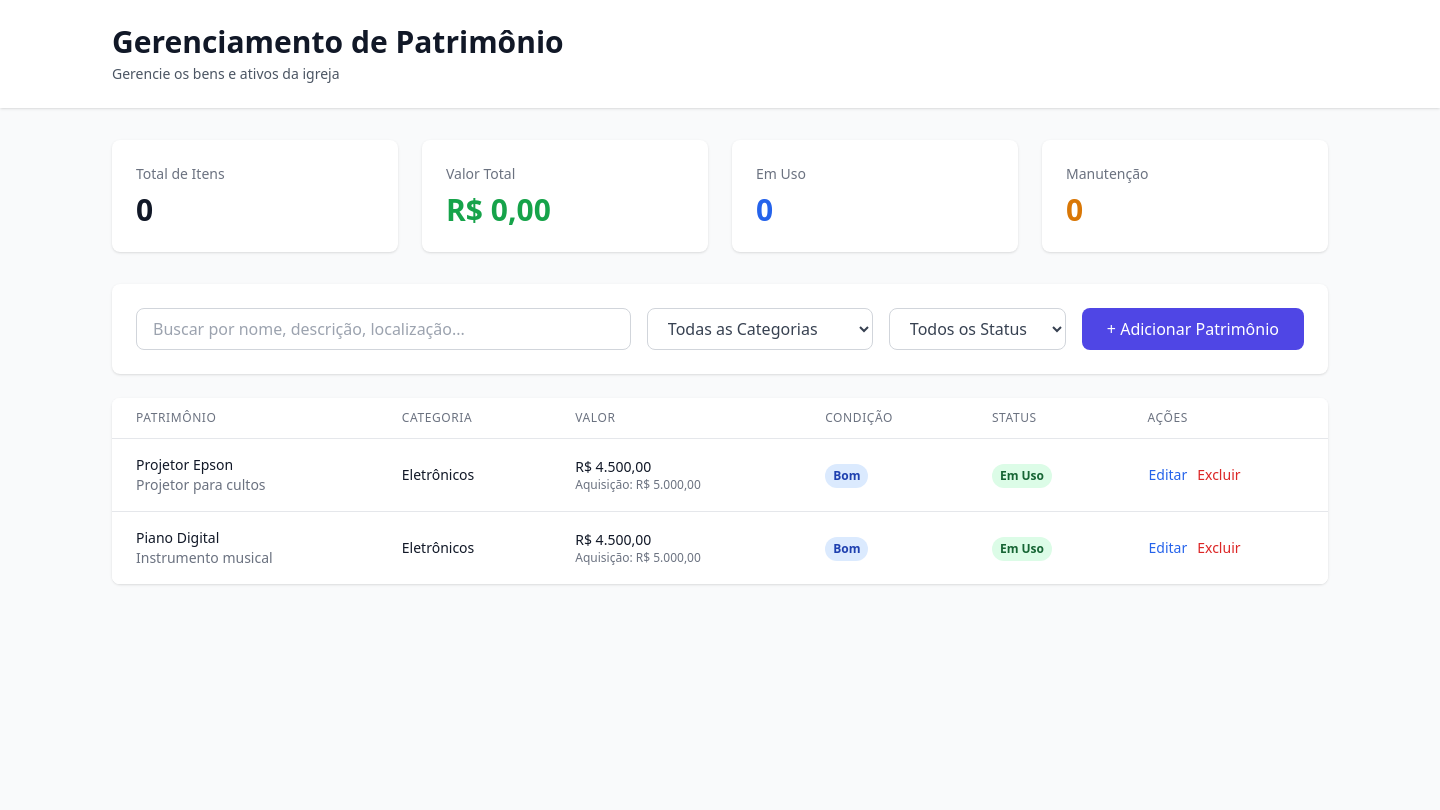
Test: AssetsManagementPage › Search and Filtering › should filter assets by search term (name)
Expected: the text "Projetor Epson" is shown, [136,455,233,474]
Type "Projetor" into the field with placeholder "Buscar por nome, descrição, localização...". click: (383, 329)
box: [136,308,631,350]
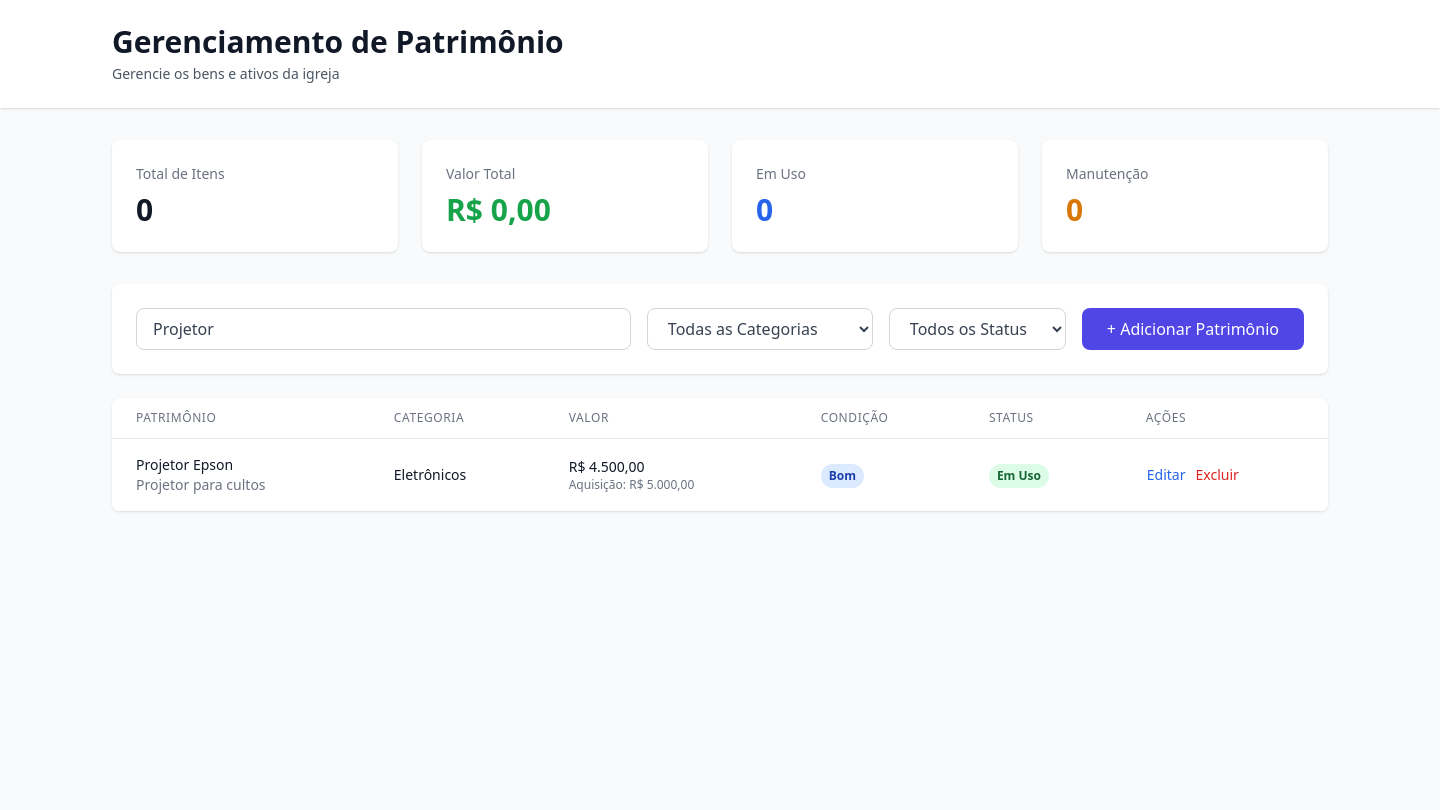
Expected: the text "Projetor Epson" is shown, [136,455,233,474]
Expected: the text "Piano Digital" is gone
